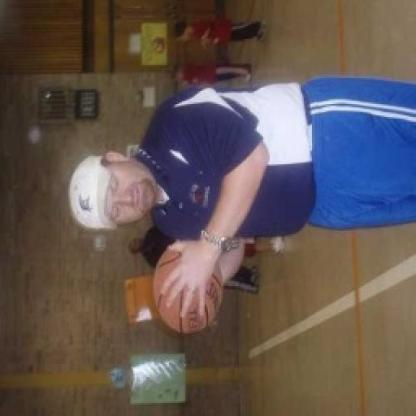basketball: (143, 235, 230, 338)
